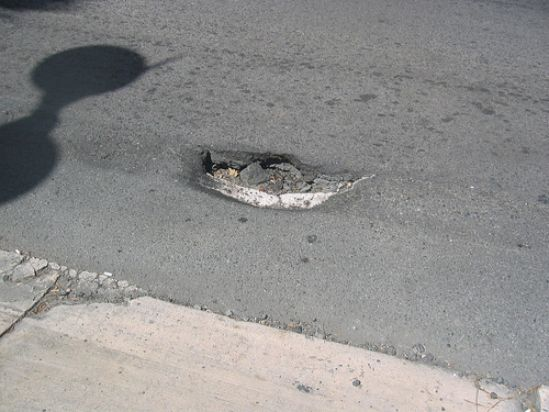pothole: (185, 143, 377, 214)
